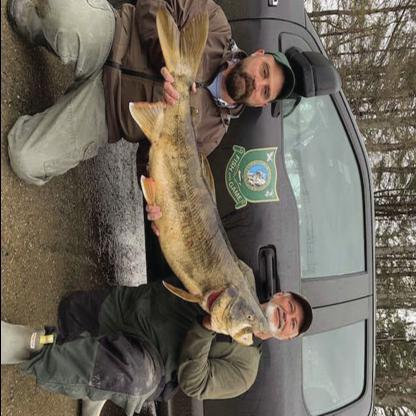fish: (128, 10, 268, 349)
